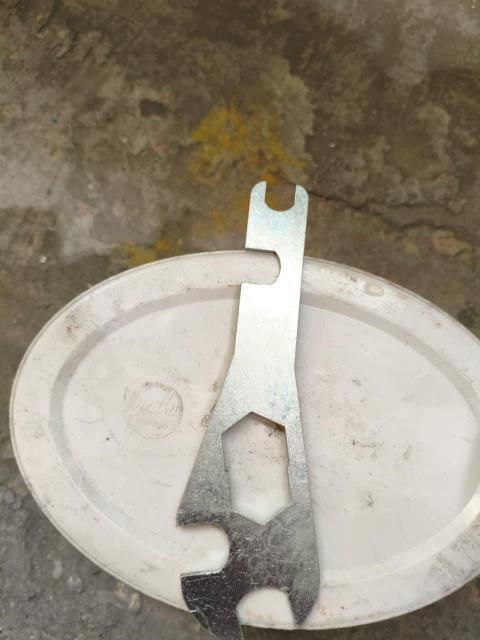Metal: (177, 180, 322, 640)
